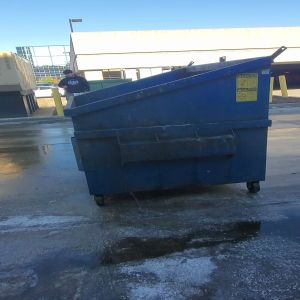Dumpster: (69, 55, 278, 208)
Person: (59, 69, 89, 92)
